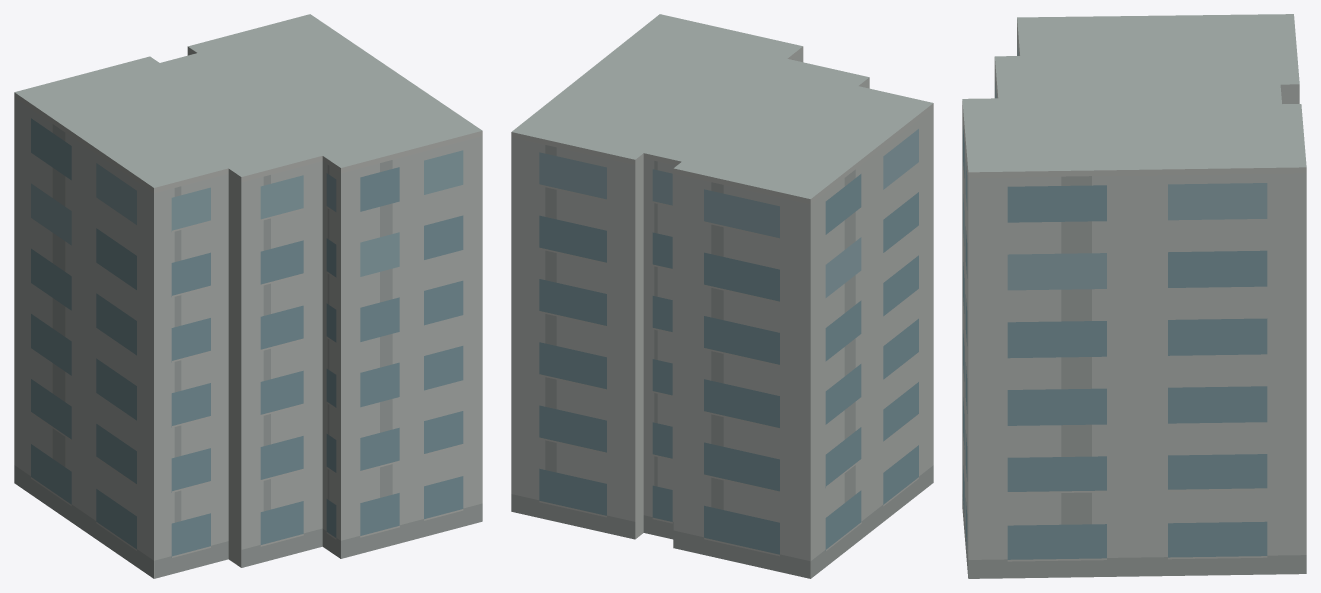
Rendered from survey-upis-32993145.glb.
The picture shows the model from 3 angles, left to right: view 1: azimuth 30°, elevation 25°; view 2: azimuth 150°, elevation 25°; view 3: azimuth 270°, elevation 25°; orthographic projection. The views are drawn at different scales.
Visible parts, largest first — view 1: survey-upis-32993145.tmp; view 2: survey-upis-32993145.tmp; view 3: survey-upis-32993145.tmp.
Boxes of the visible parts, x1,y1,x2,y2 form: survey-upis-32993145.tmp: (14,14,482,578); survey-upis-32993145.tmp: (511,14,933,578); survey-upis-32993145.tmp: (962,14,1306,578).
Size of the model in its own units: 14.75 by 17.65 by 13.56.
